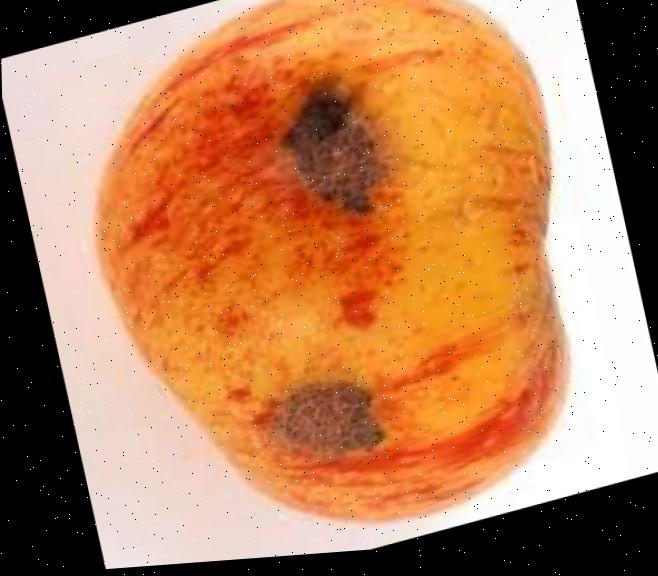SCAB: (26, 0, 626, 574)
